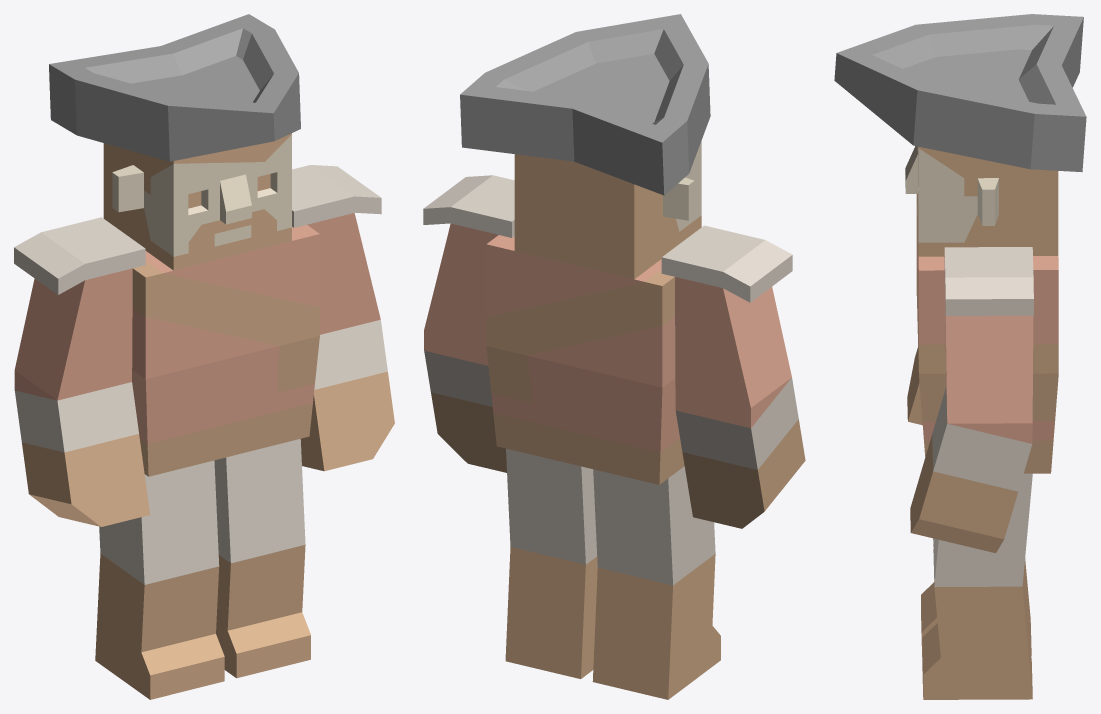
The model's file is PirateCaptain Real.fbx.
The picture shows the model from 3 angles, left to right: view 1: azimuth 30°, elevation 25°; view 2: azimuth 150°, elevation 25°; view 3: azimuth 270°, elevation 25°; orthographic projection.
Parts seen in each view (by area): view 1: body, armRight, Group 122.001, legRight, armLeft, legLeft, Group 122; view 2: body, armRight, Group 122.001, legRight, legLeft, armLeft, Group 122; view 3: Group 122.001, armLeft, legLeft, Group 122, body, legRight, armRight.
Part boxes in pixels (x1,y1,x2,y2): body: [132, 225, 319, 476]; armRight: [14, 217, 149, 526]; Group 122.001: [49, 14, 300, 161]; legRight: [95, 460, 224, 699]; armLeft: [292, 165, 394, 471]; legLeft: [214, 439, 310, 678]; Group 122: [103, 133, 291, 270]; body: [486, 235, 684, 484]; armRight: [661, 225, 805, 528]; Group 122.001: [460, 14, 710, 195]; legRight: [592, 466, 720, 699]; legLeft: [505, 448, 597, 678]; armLeft: [423, 175, 514, 472]; Group 122: [514, 141, 701, 279]; Group 122.001: [834, 14, 1086, 172]; armLeft: [910, 247, 1033, 553]; legLeft: [922, 473, 1032, 699]; Group 122: [905, 146, 1058, 256]; body: [916, 194, 1058, 473]; legRight: [921, 538, 1031, 656]; armRight: [907, 347, 922, 425].
Bounding box in the file's own units: 62.59 × 109 × 41.17.
